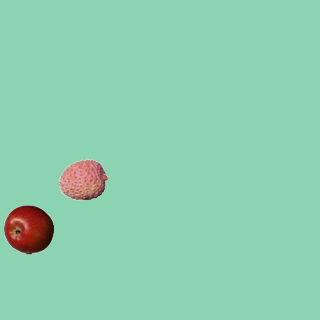Apple Braeburn: (3, 204, 53, 254)
Lychee: (58, 154, 108, 204)
